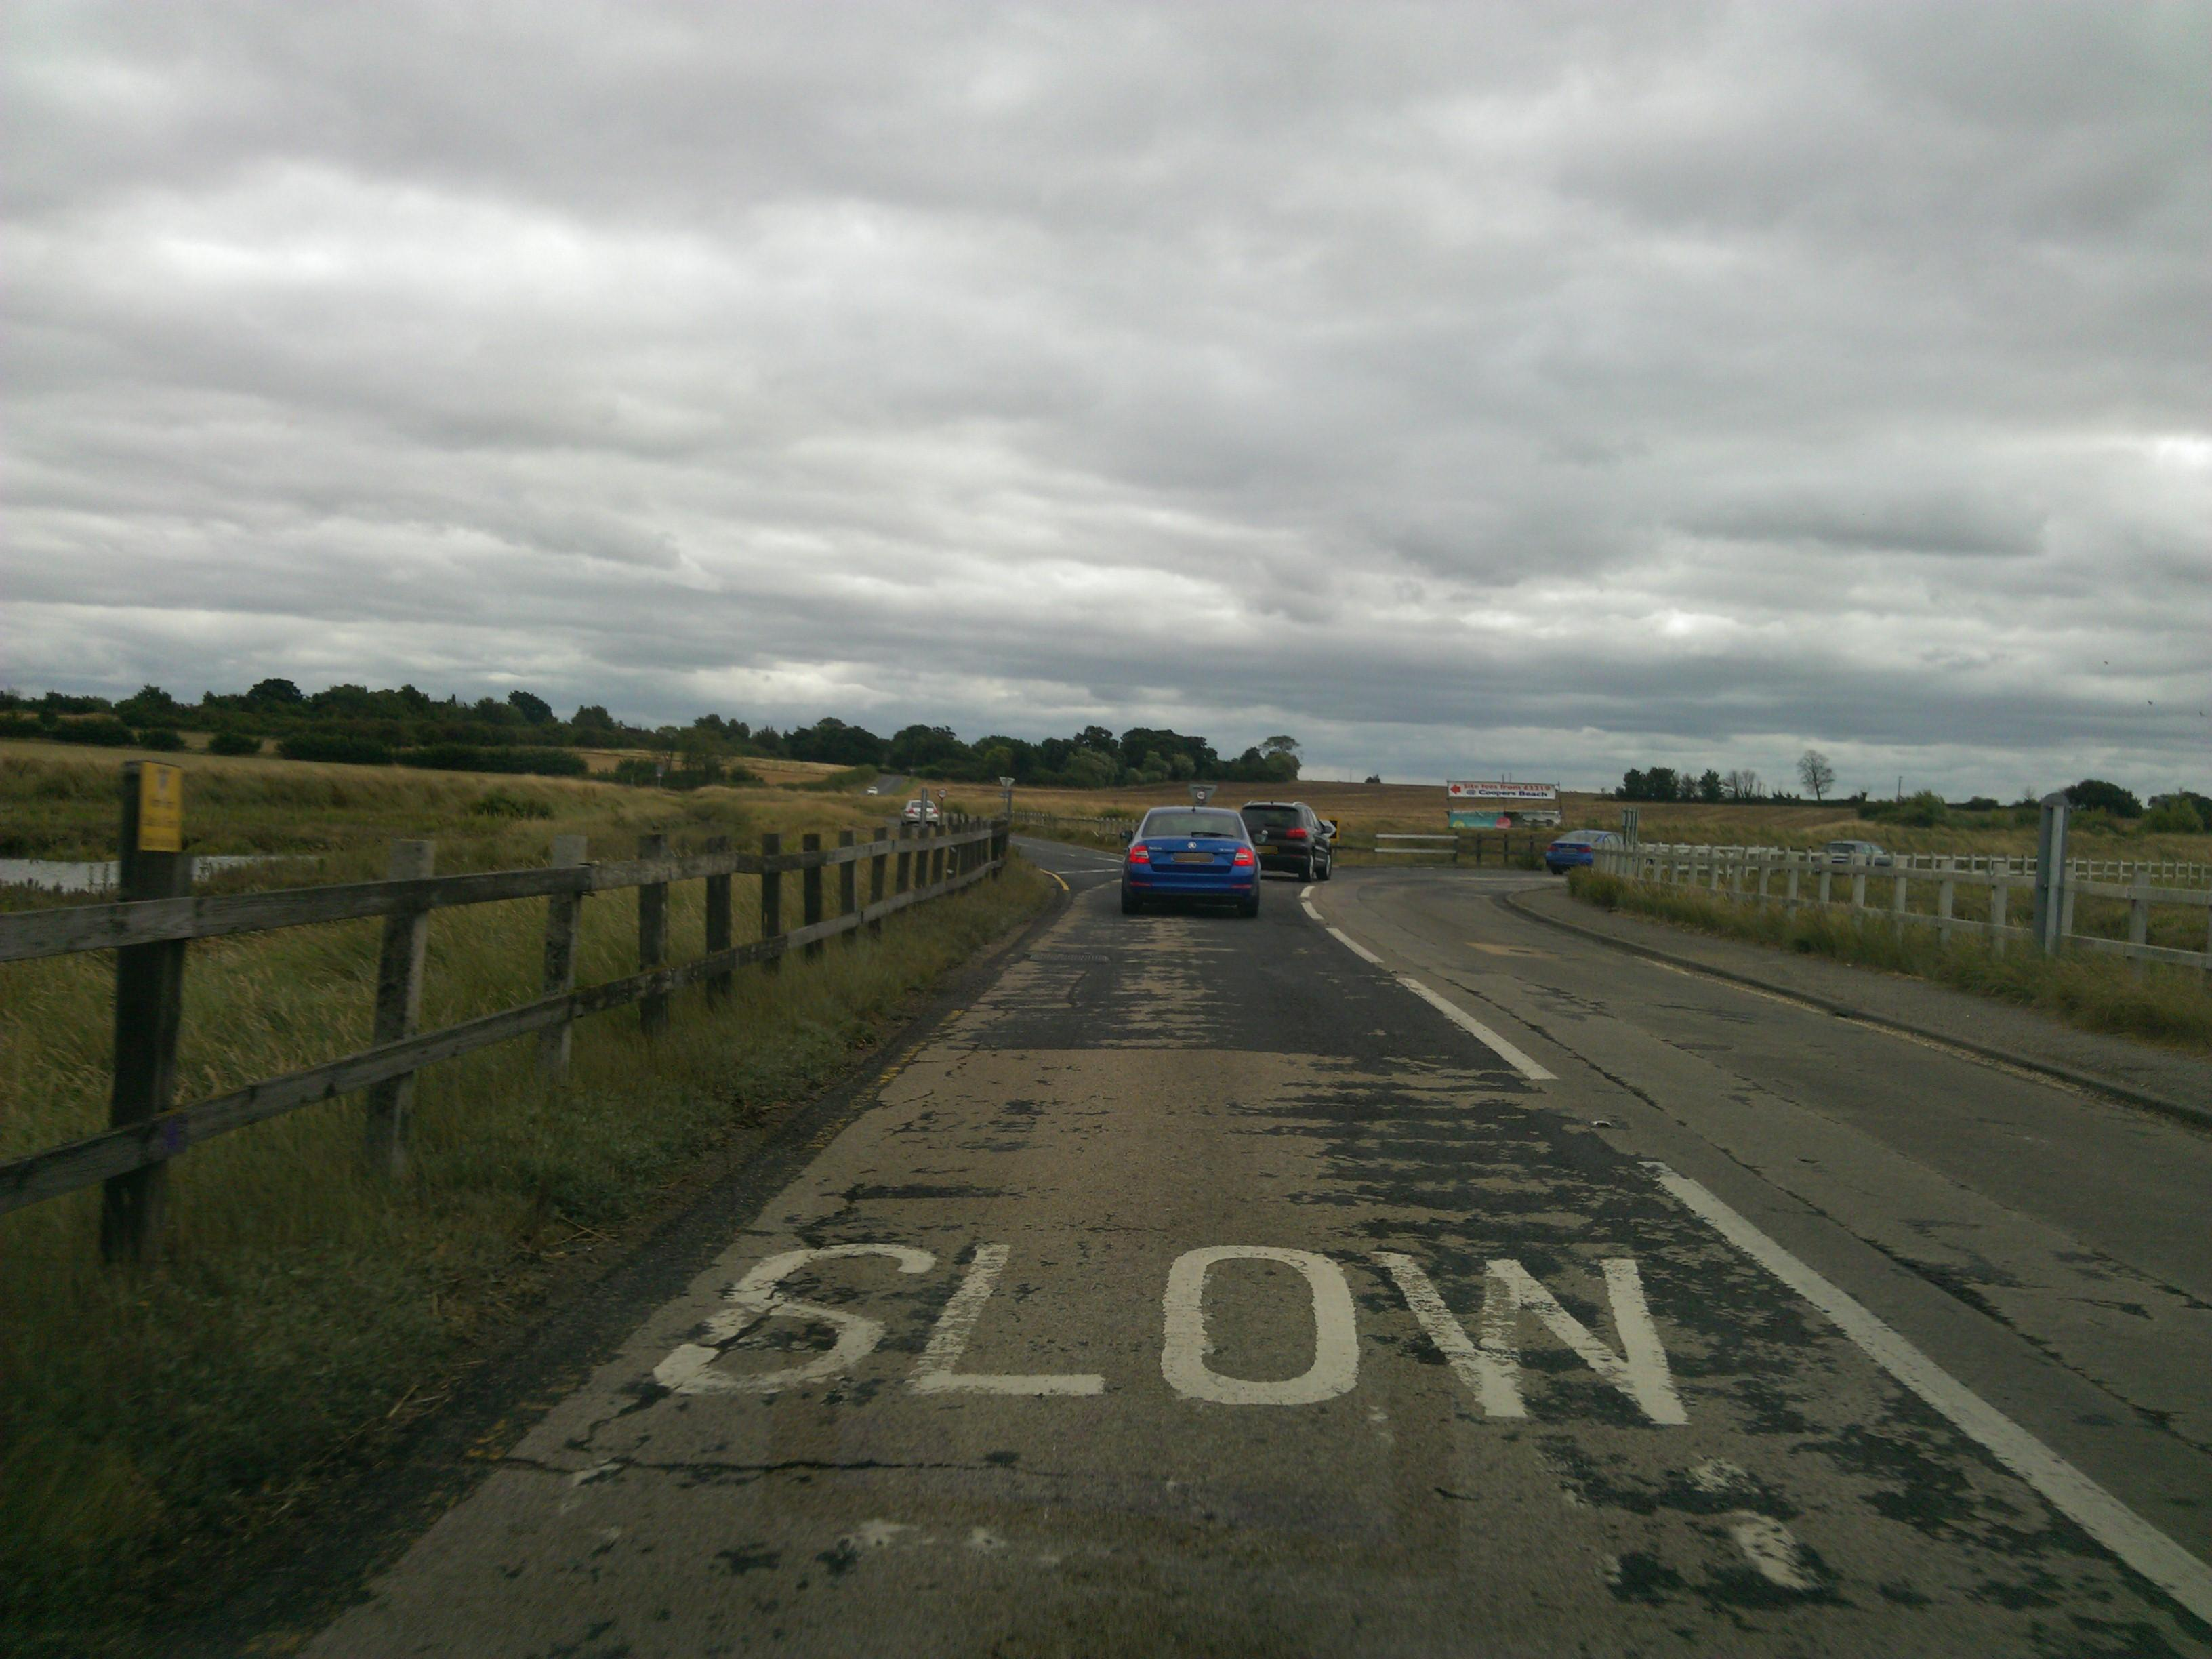vinyl banner: (1442, 807, 1588, 847), (1439, 765, 1568, 807)
